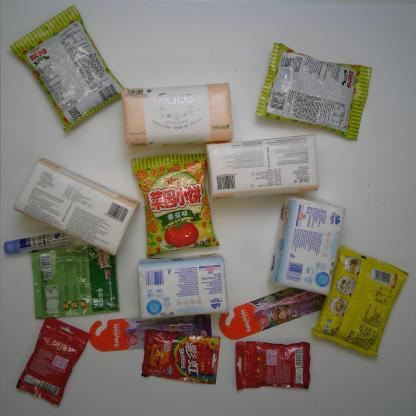Candy: (14, 319, 89, 396), (137, 329, 220, 388), (230, 336, 310, 393)
Instant Noodles: (326, 236, 401, 354)
Personal Hygiene: (80, 297, 212, 363), (217, 278, 328, 342)
Puffed Food: (13, 4, 124, 132), (257, 38, 371, 140), (132, 152, 224, 250)
Seasoner: (18, 235, 124, 315)
Stationery: (3, 234, 72, 256)
Tissue: (15, 160, 140, 255), (275, 189, 344, 305), (205, 134, 319, 200), (120, 83, 234, 141), (133, 256, 229, 316)
